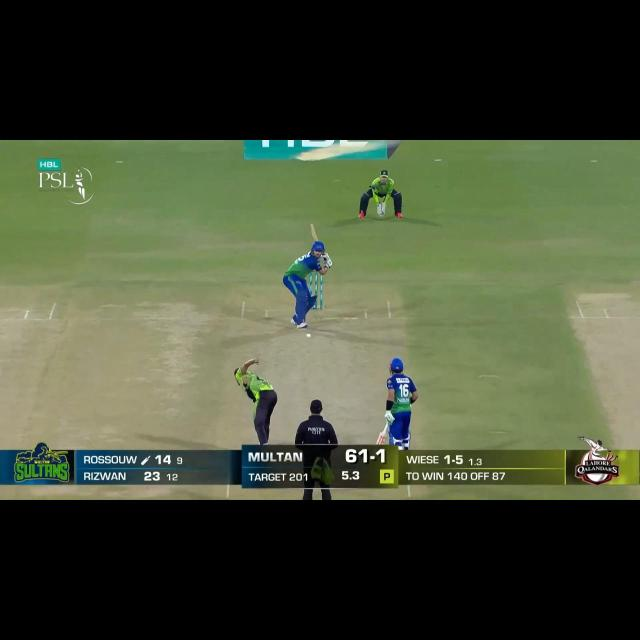bat: (309, 222, 326, 255), (374, 433, 387, 446)
toe: (308, 223, 316, 231)
